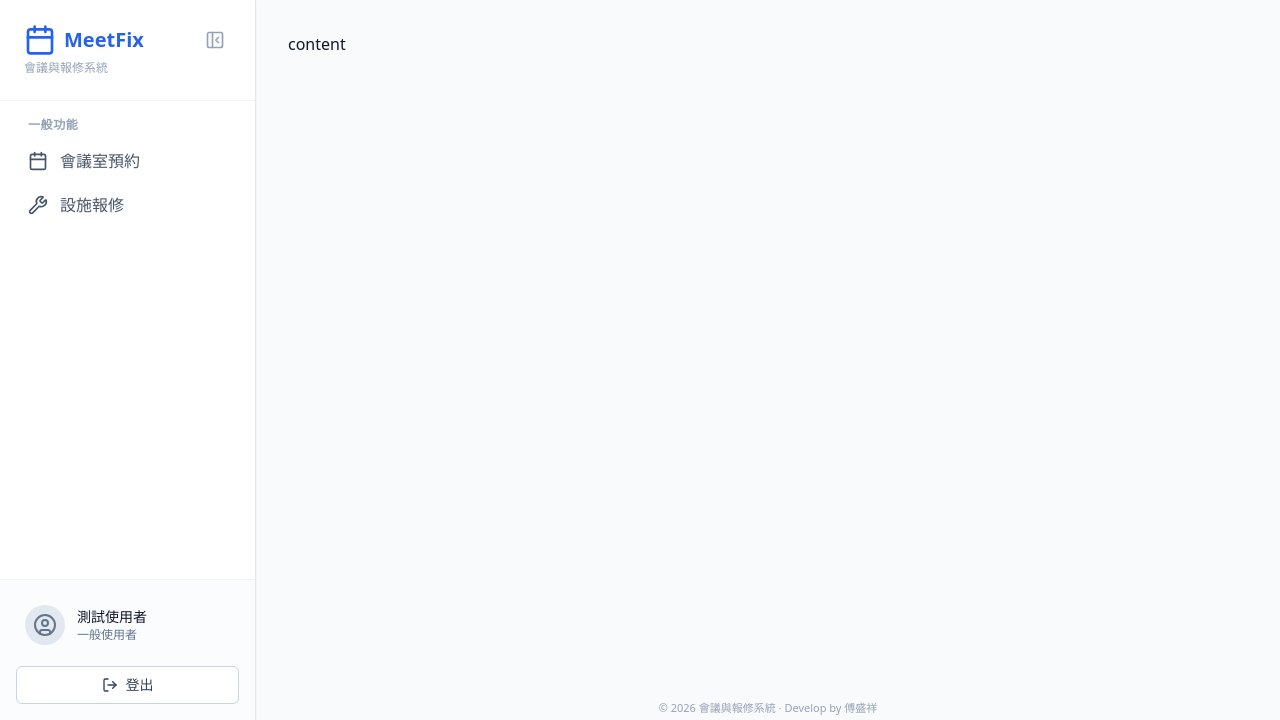
Layout — Account Settings 報修人資料 › renders the current class/phone when opening Account Settings
Click the element titled "點擊開啟帳號設定": coordinates (86, 625) [25,605,147,645]
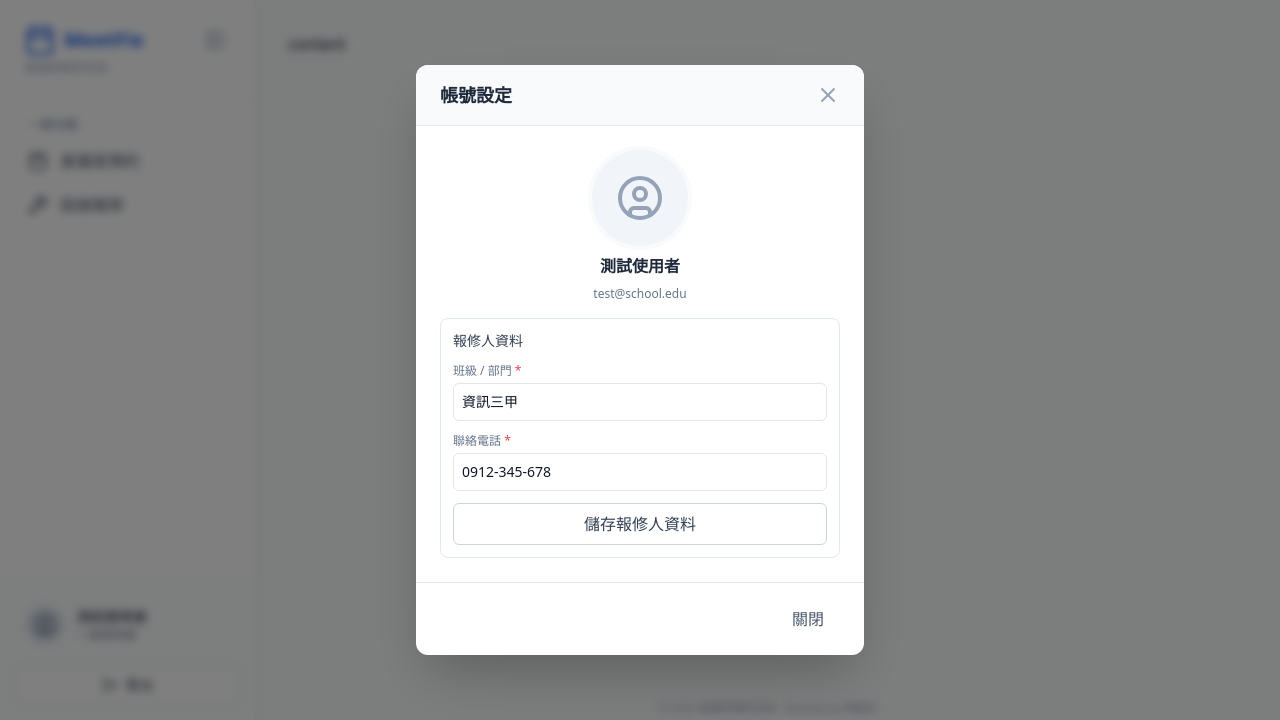
Expected: the heading "帳號設定" is shown, [440,81,512,109]
Expected: the field with placeholder "例: 資訊三甲" below "班級 / 部門" holds "資訊三甲", [453,383,827,421]
Expected: the field with placeholder "09xx-xxx-xxx" below "聯絡電話" holds "0912-345-678", [453,453,827,491]
